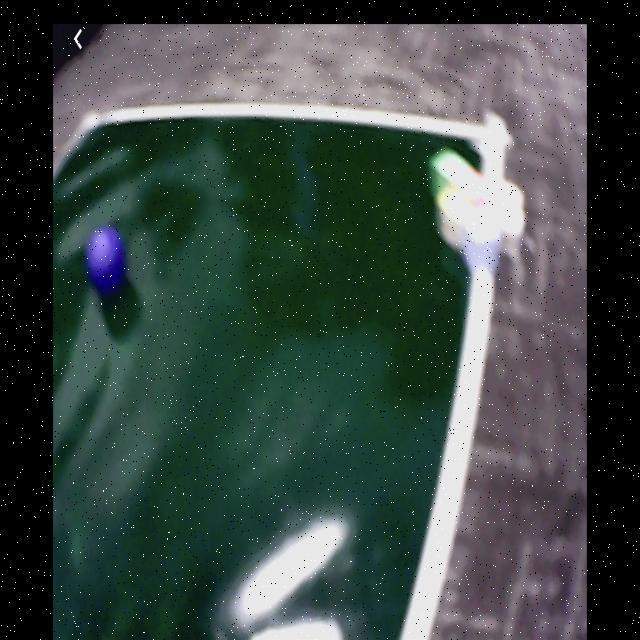ball: (89, 231, 129, 296)
